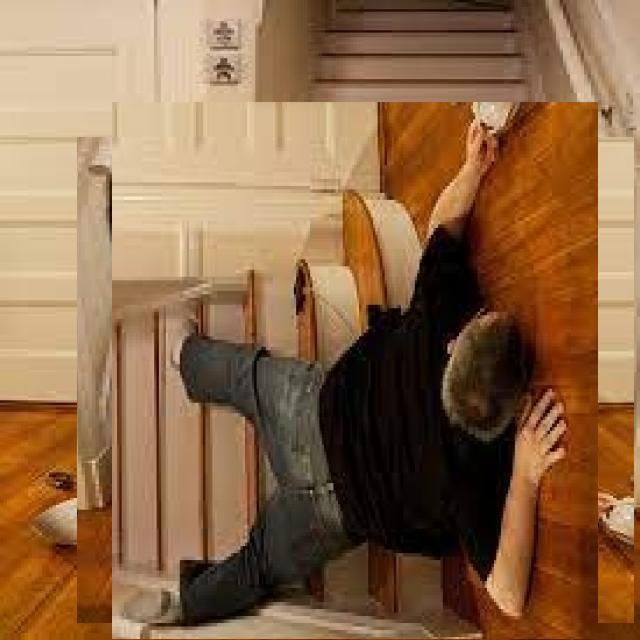Fall: (158, 132, 596, 640)
